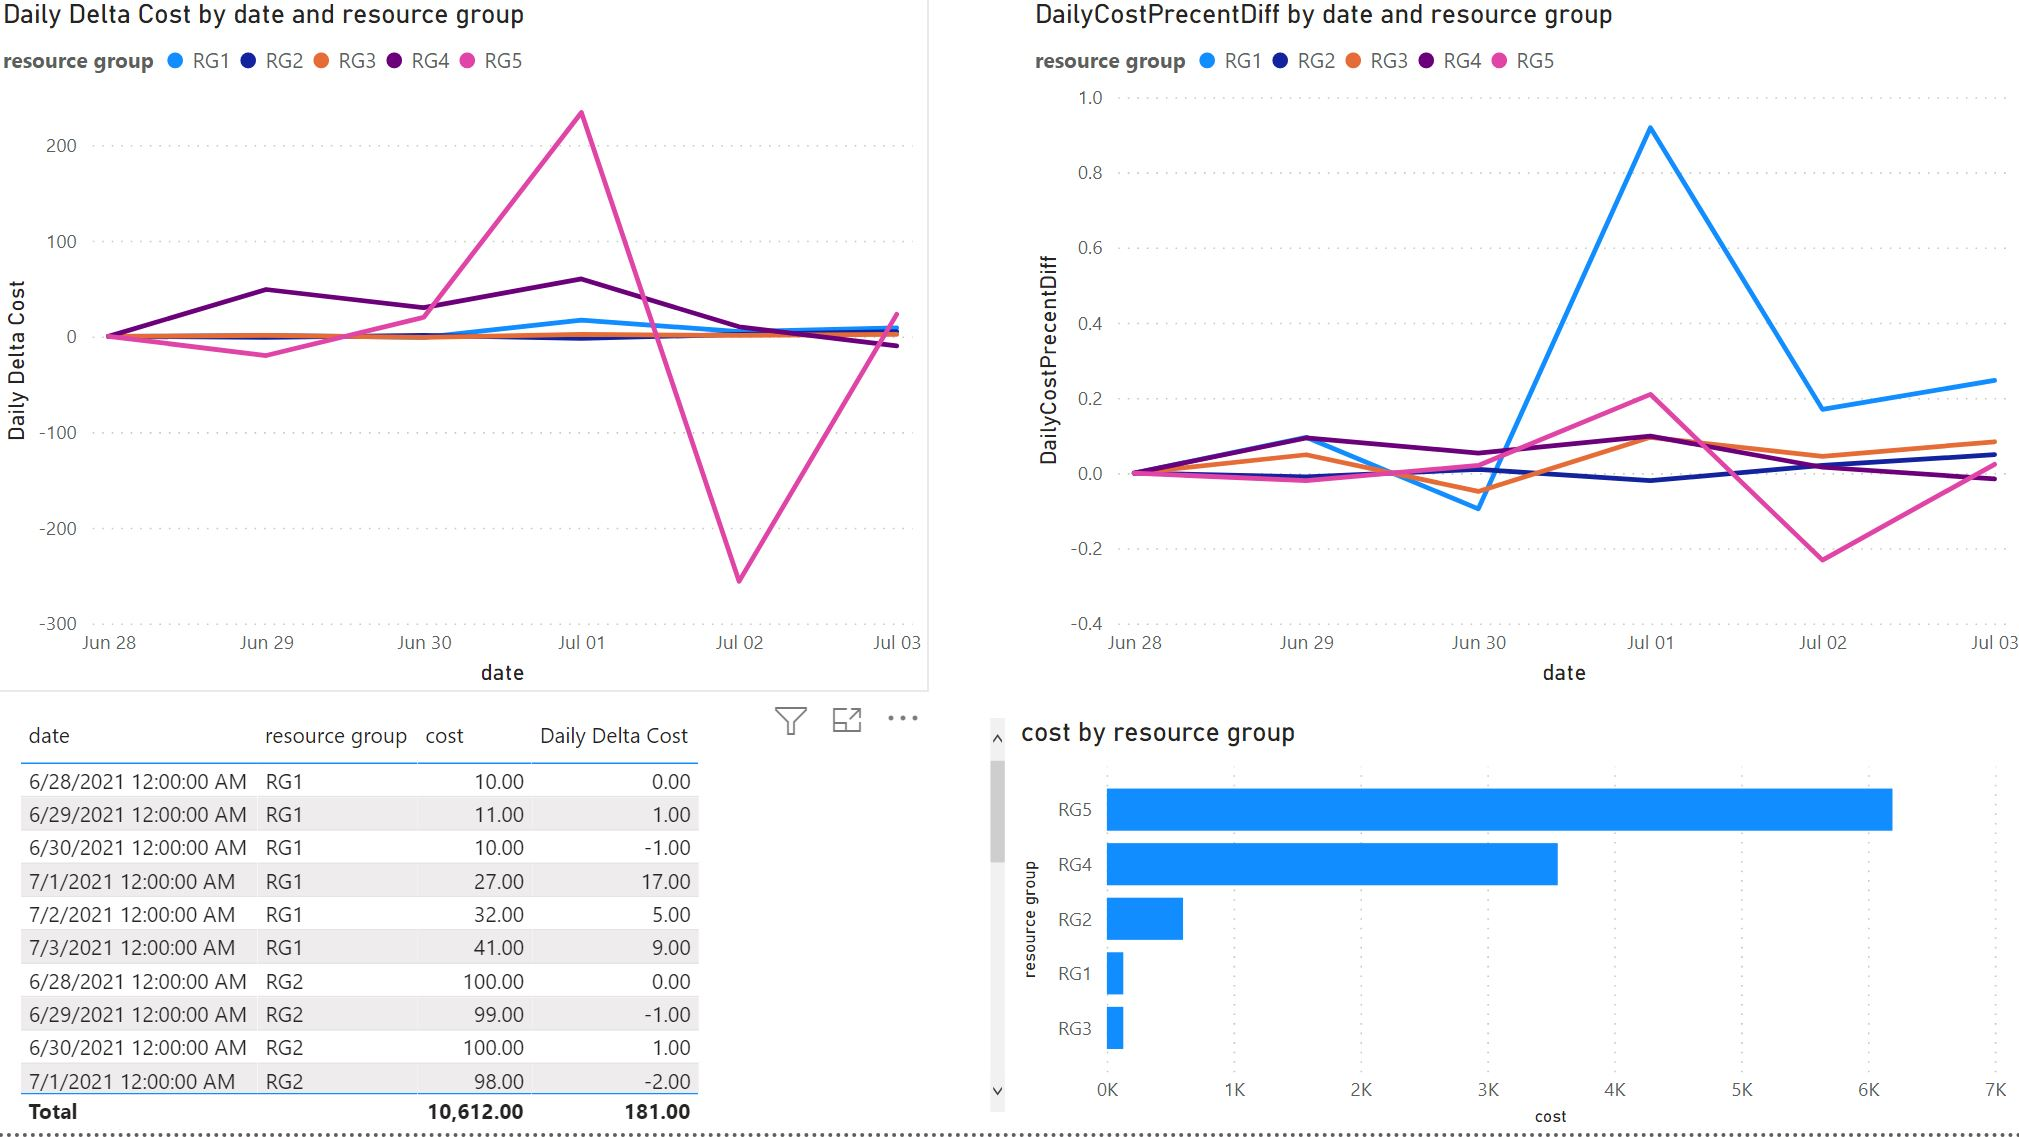

This screenshot's page, from the dashboard's own definition file:
{"tool":"powerbi","page":{"name":"Daily Cost Percent Difference","canvas":[1280,720],"ordinal":2},"visuals":[{"type":"lineChart","fields":{"Category":["usage.date"],"Series":["usage.resource group"],"Y":["Sum(usage.DailyCostPrecentDiff)"]},"box":[649.5,0,630.5,442.6],"z":0},{"type":"barChart","fields":{"Category":["usage.resource group"],"Y":["Sum(usage.cost)"]},"box":[640.6,452.7,630.5,267.3],"z":1000},{"type":"tableEx","fields":{"Values":["usage.date","usage.resource group","Sum(usage.cost)","Sum(usage.Daily Delta Cost)"]},"box":[10,453,631,267],"z":2000},{"type":"lineChart","fields":{"Category":["usage.date"],"Series":["usage.resource group"],"Y":["Sum(usage.Daily Delta Cost)"]},"box":[0,0,588.9,442.6],"z":2001}]}

Visuals, with their boxes in screenshot pixels (x1, y1, x2, y2), scaled from the page's 1280x720 canvas onto the 2019x1137 screenshot:
lineChart - usage.date x usage.resource group: (1024, 0, 2018, 699)
barChart - usage.resource group x Sum(usage.cost): (1010, 715, 2005, 1136)
tableEx - usage.date x usage.resource group: (16, 715, 1011, 1136)
lineChart - usage.date x usage.resource group: (0, 0, 929, 699)
